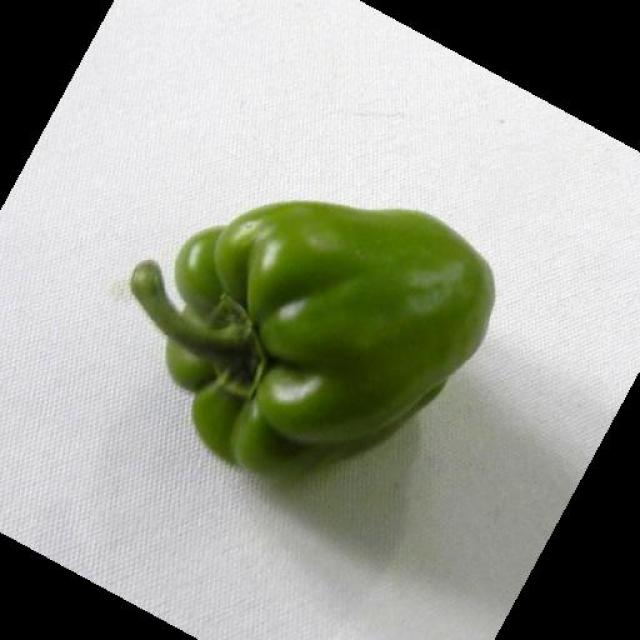Fresh_Capsicum: (155, 227, 482, 445)
